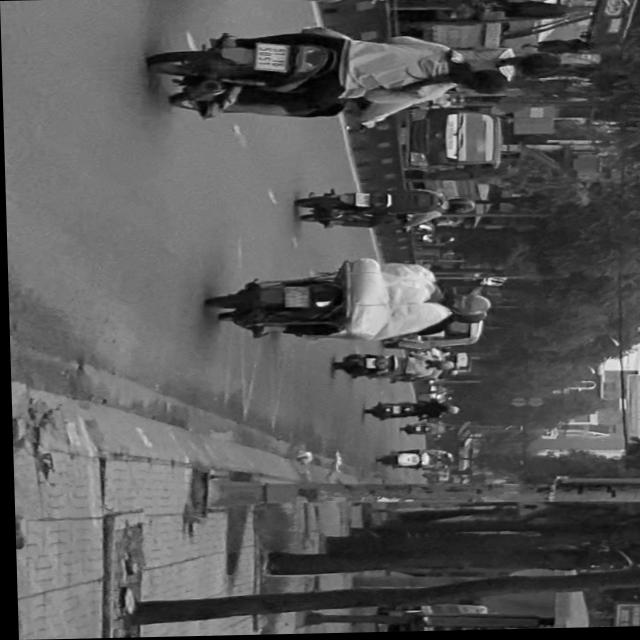helmet: (446, 294, 490, 316)
licenseplate: (146, 20, 562, 127), (206, 255, 494, 345)
motorcyclist: (454, 68, 513, 97), (508, 51, 563, 81)
nohelmet: (257, 43, 290, 71), (284, 286, 309, 307)
